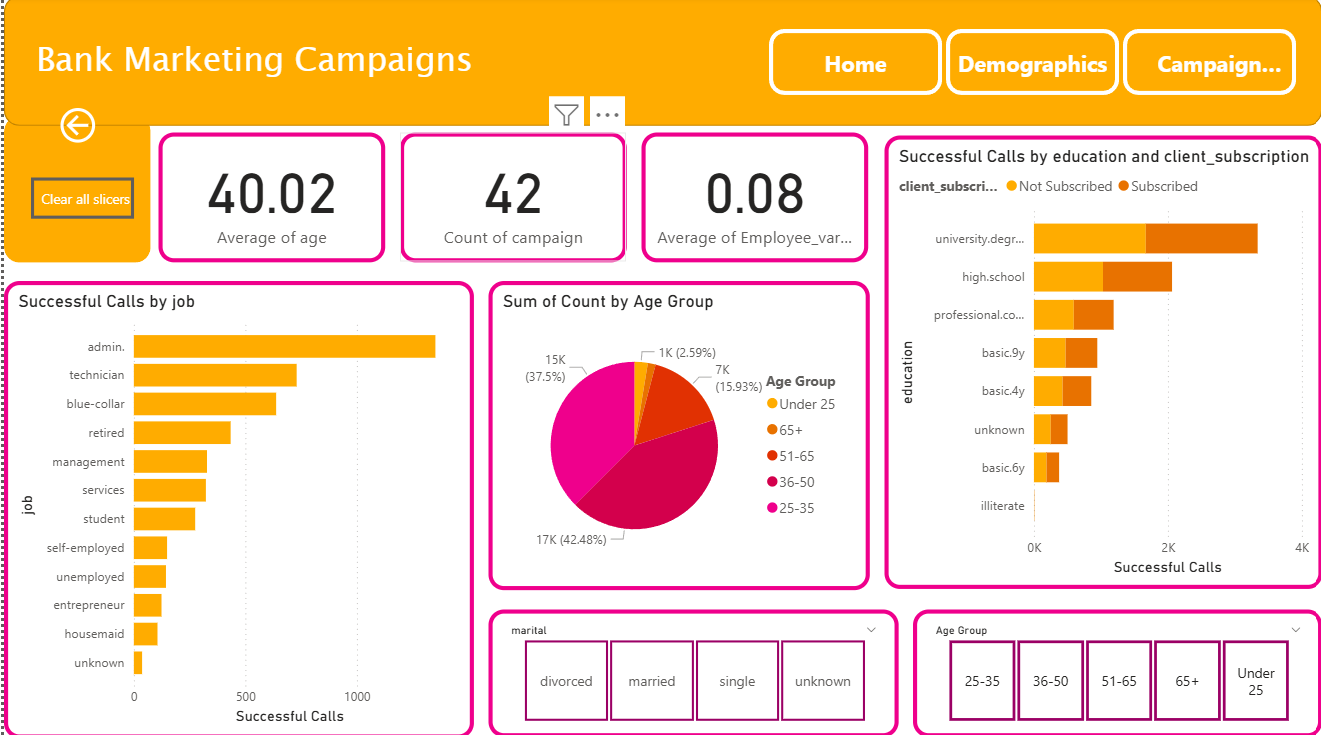

This screenshot's page, from the dashboard's own definition file:
{"tool":"powerbi","page":{"name":"Page 2","canvas":[1280,720],"ordinal":1},"visuals":[{"type":"shape","box":[0,115.7,142.3,142.3],"z":0},{"type":"pieChart","fields":{"Category":["bank-additional-full.Age Group"],"Y":["Sum(bank-additional-full.Count)"]},"box":[470,276,370,300],"z":1000},{"type":"barChart","fields":{"Category":["bank-additional-full.job"],"Y":["bank-additional-full.Successful Calls"]},"box":[0,276,456,444],"z":2000},{"type":"barChart","fields":{"Category":["bank-additional-full.education"],"Y":["bank-additional-full.Successful Calls"],"Series":["bank-additional-full.client_subscription"]},"box":[854,136,426,440],"z":3000},{"type":"shape","box":[0,0,1280,126],"z":4000},{"type":"textbox","box":[26,32,472,78],"z":5000},{"type":"actionButton","title":"Go to Demographics","box":[742,32,168,64],"z":6000},{"type":"actionButton","title":"Go to Demographics","box":[914,32,168,64],"z":7000},{"type":"actionButton","title":"Go to Demographics","box":[1086,32,168,64],"z":8000},{"type":"actionButton","box":[25.7,175.7,100,40],"z":9000},{"type":"card","fields":{"Values":["Avg(bank-additional-full.age)"]},"box":[150,132,220,126],"z":10000},{"type":"card","fields":{"Values":["Avg(bank-additional-full.Employee_var_rate)"]},"box":[619.3,132,220,126],"z":11000},{"type":"card","fields":{"Values":["Count(bank-additional-full.campaign)"]},"box":[384.7,132,220,126],"z":12000},{"type":"slicer","fields":{"Values":["bank-additional-full.marital"]},"box":[470,596,398,124],"z":13000},{"type":"slicer","fields":{"Values":["bank-additional-full.Age Group"]},"box":[882,596,398,124],"z":14000},{"type":"actionButton","box":[50,102.9,50,44.3],"z":15000}]}

Visuals, with their boxes in screenshot pixels (x1, y1, x2, y2), scaled from the page's 1280x720 canvas onto the 1321x735 screenshot:
shape: bbox=(0, 118, 147, 263)
pieChart - bank-additional-full.Age Group x Sum(bank-additional-full.Count): bbox=(485, 282, 867, 588)
barChart - bank-additional-full.job x bank-additional-full.Successful Calls: bbox=(0, 282, 471, 734)
barChart - bank-additional-full.education x bank-additional-full.Successful Calls: bbox=(881, 139, 1320, 588)
shape: bbox=(0, 0, 1320, 129)
textbox: bbox=(27, 33, 514, 112)
"Go to Demographics" actionButton: bbox=(766, 33, 939, 98)
"Go to Demographics" actionButton: bbox=(943, 33, 1117, 98)
"Go to Demographics" actionButton: bbox=(1121, 33, 1294, 98)
actionButton: bbox=(27, 179, 130, 220)
card - Avg(bank-additional-full.age): bbox=(155, 135, 382, 263)
card - Avg(bank-additional-full.Employee_var_rate): bbox=(639, 135, 866, 263)
card - Count(bank-additional-full.campaign): bbox=(397, 135, 624, 263)
slicer - bank-additional-full.marital: bbox=(485, 608, 896, 734)
slicer - bank-additional-full.Age Group: bbox=(910, 608, 1320, 734)
actionButton: bbox=(52, 105, 103, 150)
